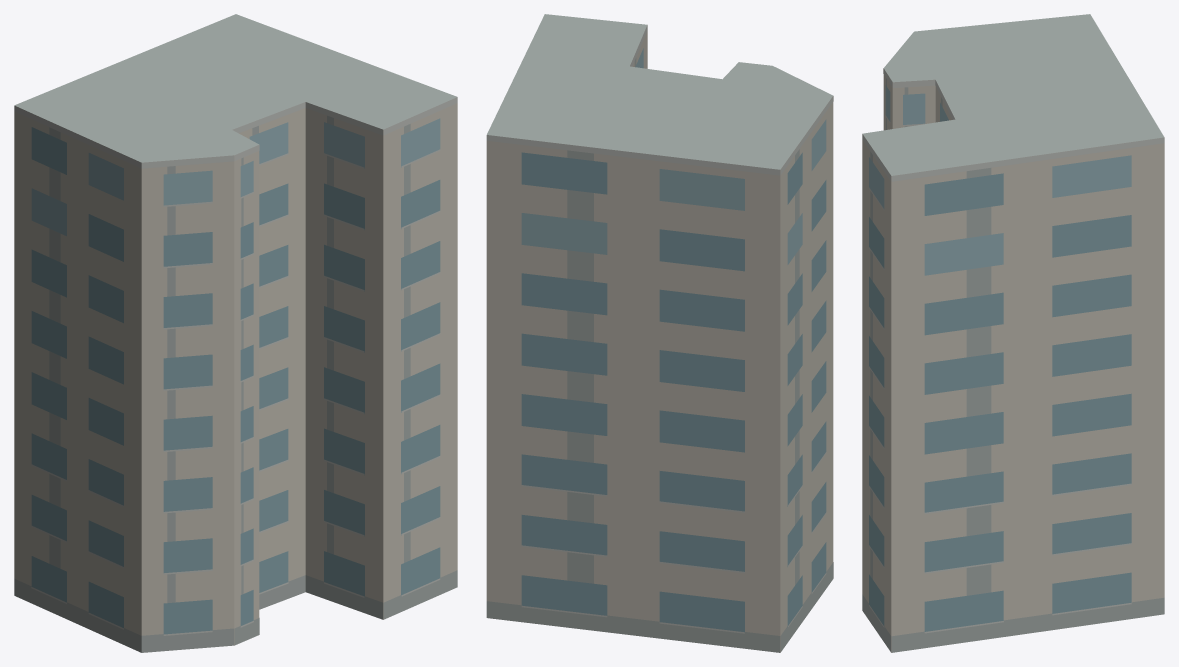
Rendered from survey-upis-32818334.glb.
The picture shows the model from 3 angles, left to right: view 1: azimuth 30°, elevation 25°; view 2: azimuth 150°, elevation 25°; view 3: azimuth 270°, elevation 25°; orthographic projection. The views are drawn at different scales.
Parts seen in each view (by area): view 1: survey-upis-32818334.tmp; view 2: survey-upis-32818334.tmp; view 3: survey-upis-32818334.tmp.
Part boxes in pixels (x1,y1,x2,y2): survey-upis-32818334.tmp: [14, 14, 457, 652]; survey-upis-32818334.tmp: [486, 14, 833, 652]; survey-upis-32818334.tmp: [862, 14, 1164, 652].
Size of the model in its own units: 14.51 by 19.9 by 11.44.
